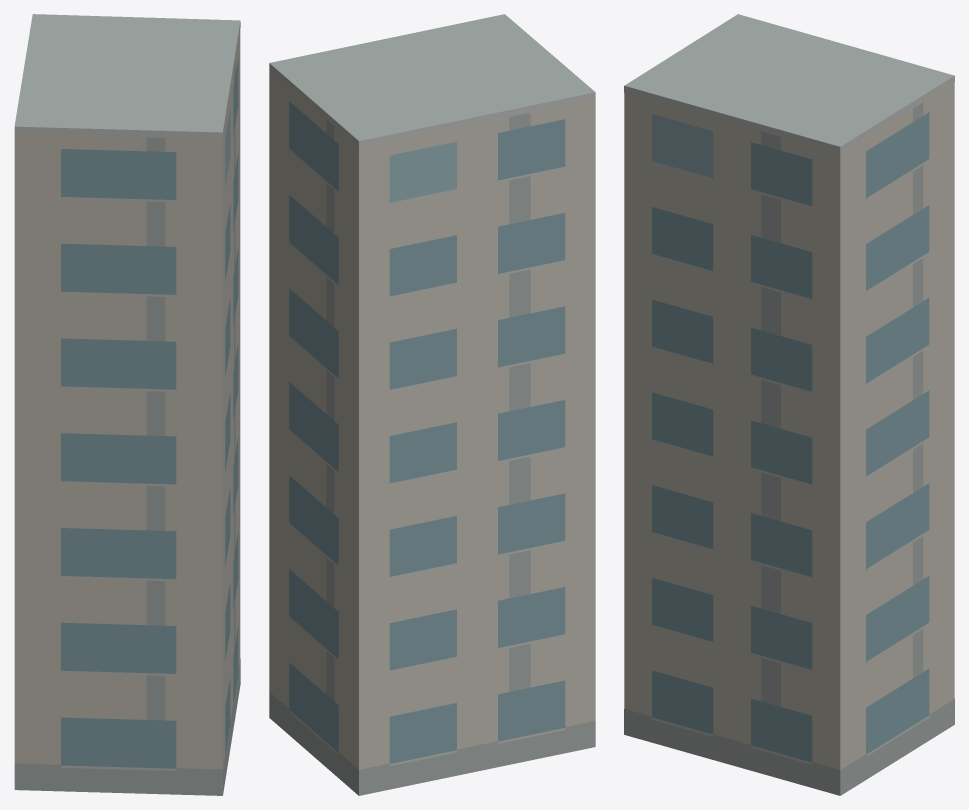
Rendered from survey-upis-32571228.glb.
The picture shows the model from 3 angles, left to right: view 1: azimuth 30°, elevation 25°; view 2: azimuth 150°, elevation 25°; view 3: azimuth 270°, elevation 25°; orthographic projection. The views are drawn at different scales.
Visible parts, largest first — view 1: survey-upis-32571228.tmp; view 2: survey-upis-32571228.tmp; view 3: survey-upis-32571228.tmp.
Boxes of the visible parts, x1,y1,x2,y2 form: survey-upis-32571228.tmp: (14,14,240,795); survey-upis-32571228.tmp: (269,14,595,795); survey-upis-32571228.tmp: (624,14,954,795).
Size of the model in its own units: 10.08 by 22.95 by 10.6.
